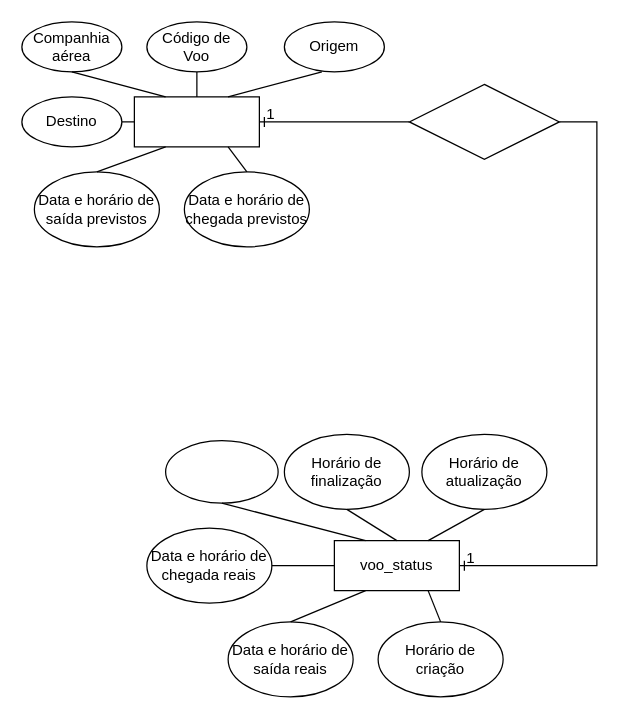
Some shapes in this 629 by 719 pixel diagram are drawn without their labels. Each missing label, with the box of its shape:
Possui: (408, 83, 559, 159)
Status: (164, 439, 278, 503)
voo: (133, 96, 259, 147)
